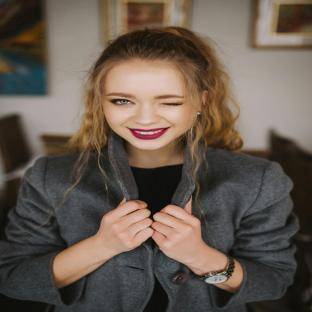Human: (0, 27, 298, 312)
